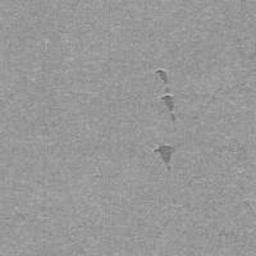Inclusion: (155, 145, 175, 163), (156, 70, 169, 84), (162, 96, 174, 111), (128, 143, 136, 158)
